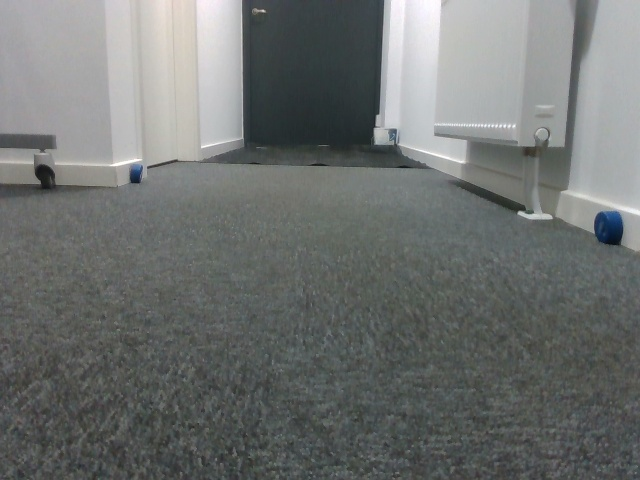alfa: (593, 207, 625, 249), (128, 162, 143, 184)
